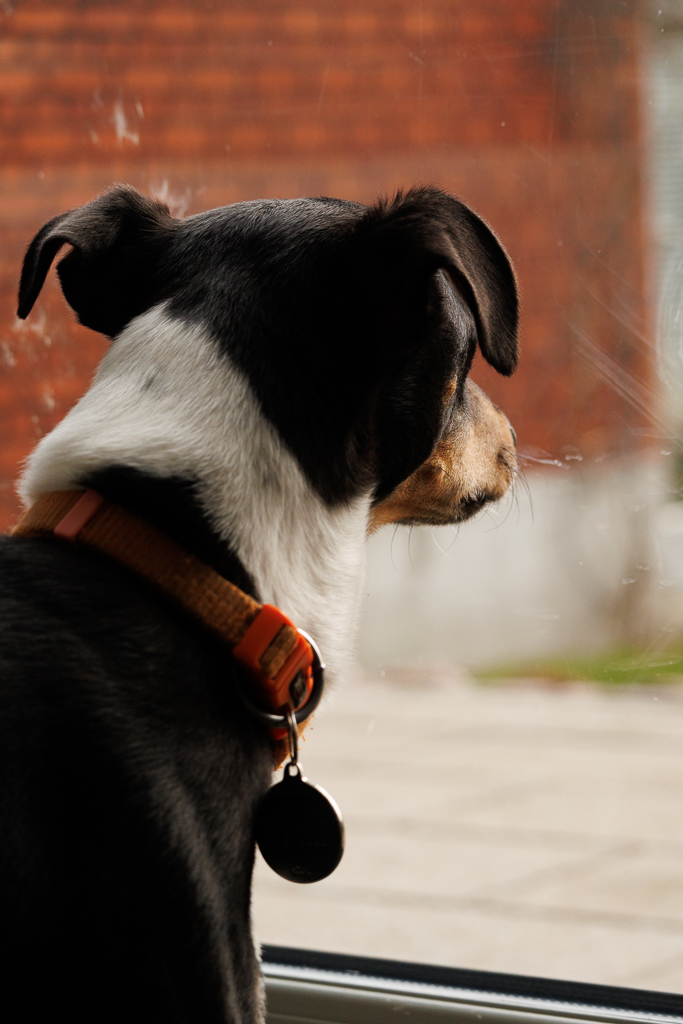Dog: (0, 163, 551, 1024)
